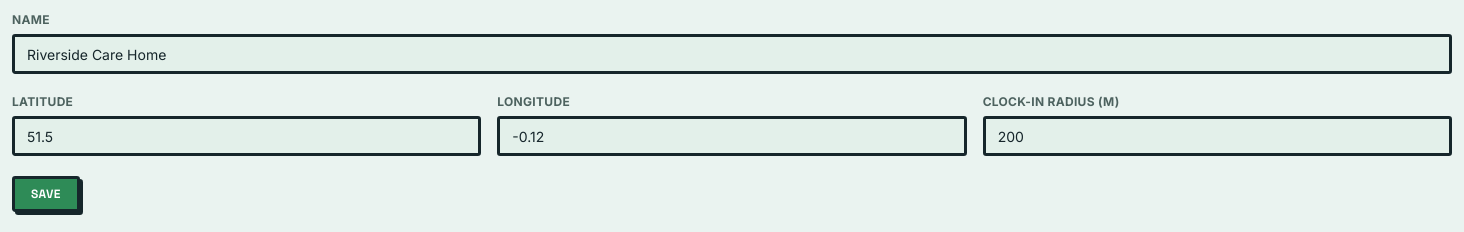
WorkplaceSettingsForm › disables submit and shows a saving state while the request is in flight
Click the button "Save" at [46, 194], box [12,176,80,212]
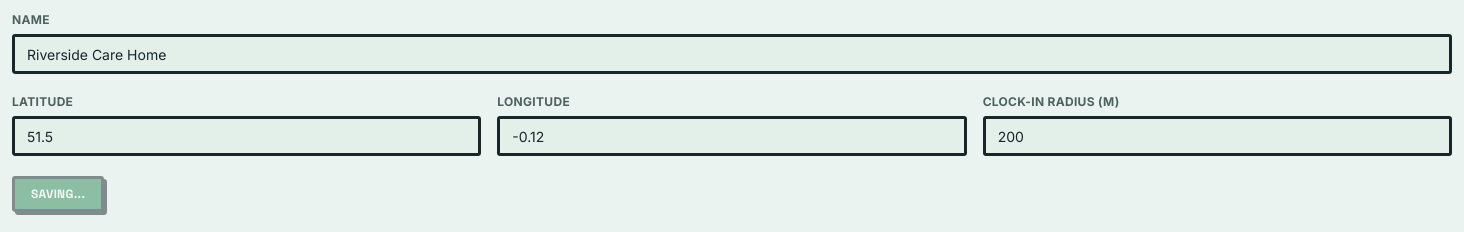
Now the button "Saving..." is disabled, box [12,176,104,212]
